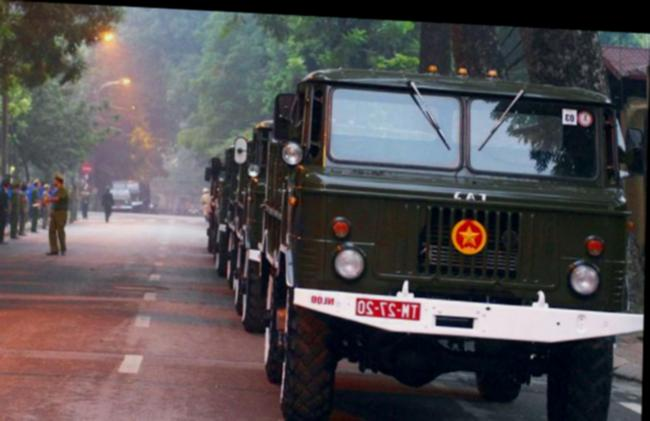License_Plate: (354, 295, 424, 326)
